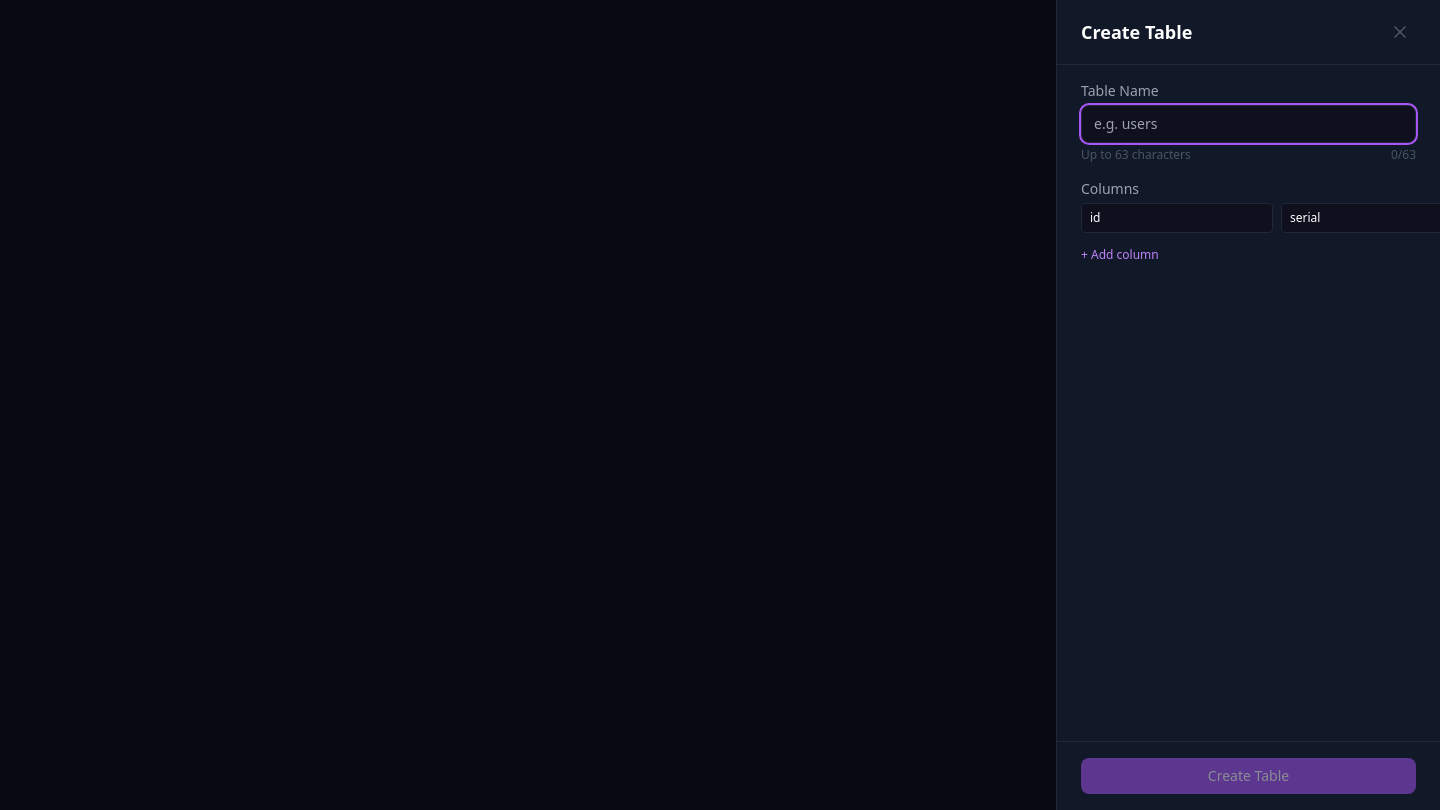
Scenario: CreateTablePanel name rule › a column name with a space or capital is explained and not sent
The image size is (1440, 810).
Step 1. Type "notes" into the field with test id "table-name-input" → x=1248, y=124, box [1081,105,1416,143]
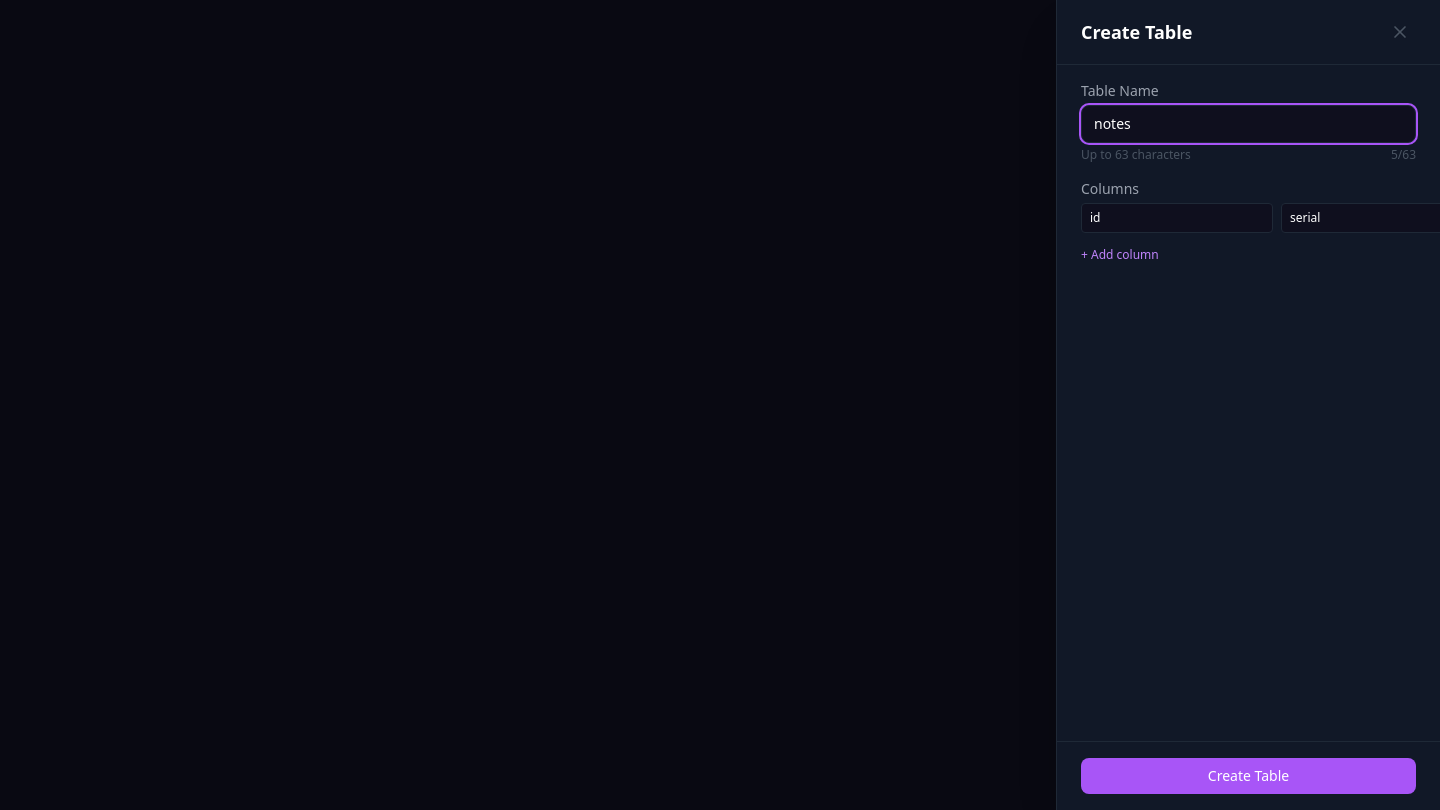
Step 2. Replace the text in the field with placeholder "e.g. email" with "First Name" → x=1177, y=218, box [1081,203,1273,233]
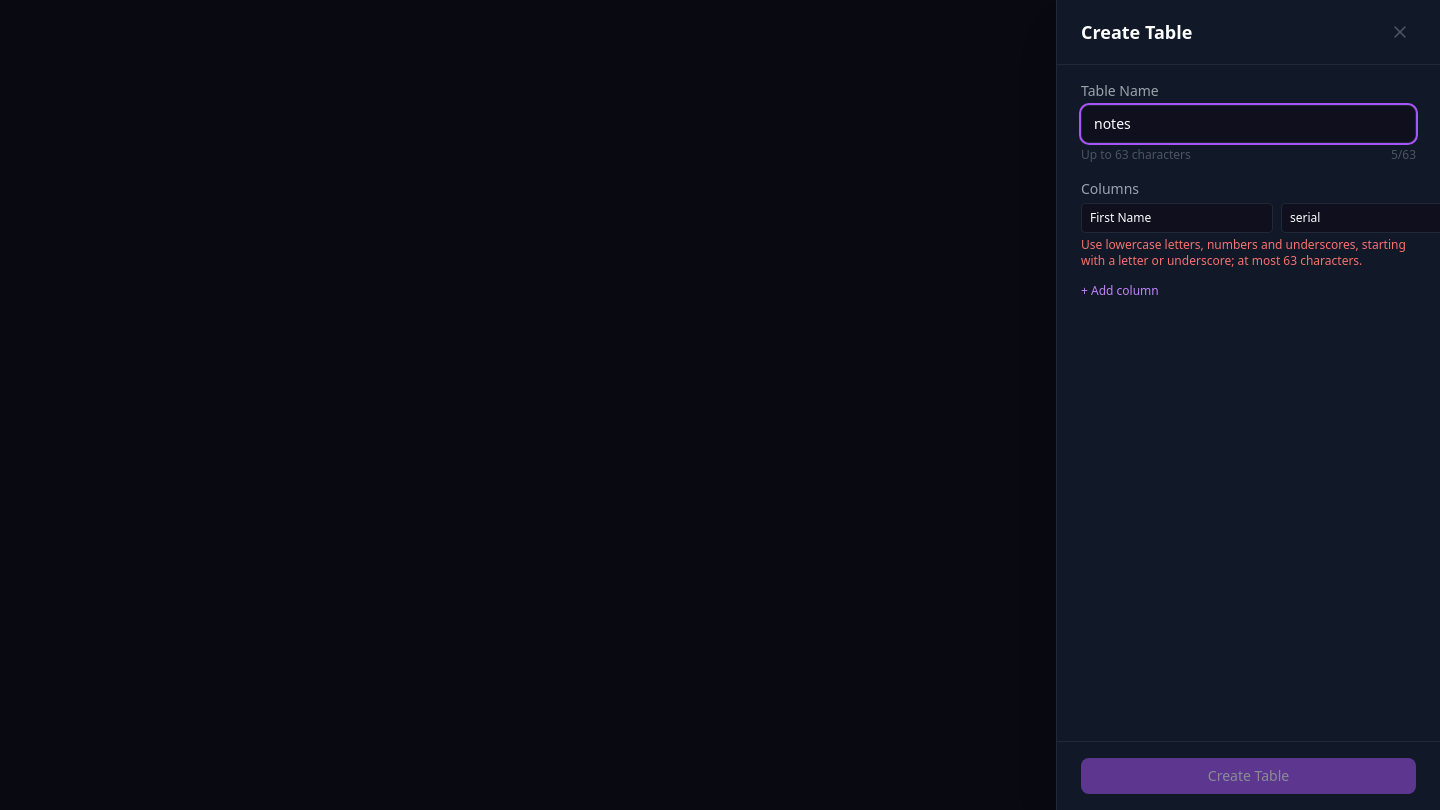
Now the text "Use lowercase letters, numbers and underscores, starting with a letter or underscore; at most 63 characters." is shown, box [1081,236,1406,269]
Now the button with test id "create-table-submit" is disabled, box [1081,758,1416,794]
